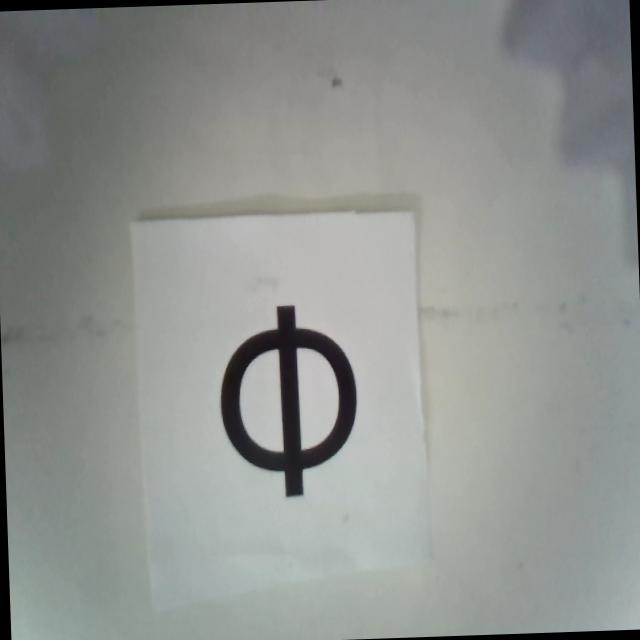F: (216, 302, 361, 493)
